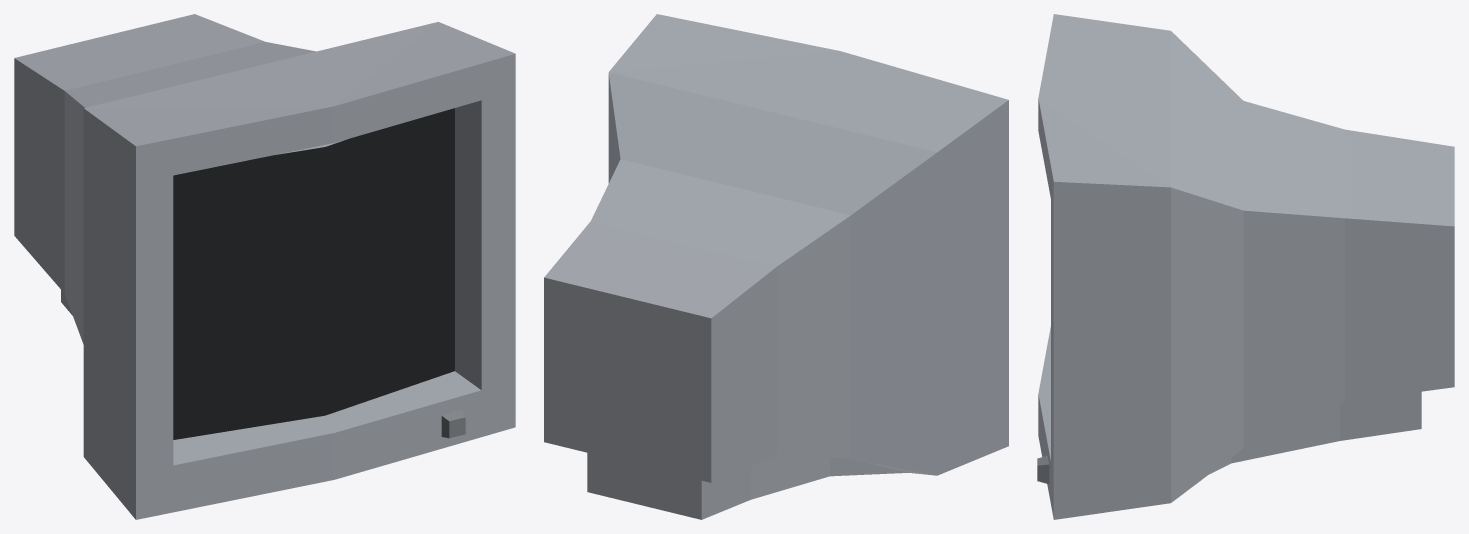
File: SM_Prop_Electronics_Screen_02.glb
The picture shows the model from 3 angles, left to right: view 1: azimuth 30°, elevation 25°; view 2: azimuth 150°, elevation 25°; view 3: azimuth 270°, elevation 25°; orthographic projection. The views are drawn at different scales.
Visible parts, largest first — view 1: SM_Prop_Electronics_Screen_02; view 2: SM_Prop_Electronics_Screen_02; view 3: SM_Prop_Electronics_Screen_02.
Part boxes in pixels (bbox=[...]): SM_Prop_Electronics_Screen_02: bbox=[14, 14, 515, 519]; SM_Prop_Electronics_Screen_02: bbox=[544, 14, 1008, 519]; SM_Prop_Electronics_Screen_02: bbox=[1037, 14, 1454, 519].
Size of the model in its own units: 0.7305 by 0.6866 by 0.7674.
1 material, 1 textured.
